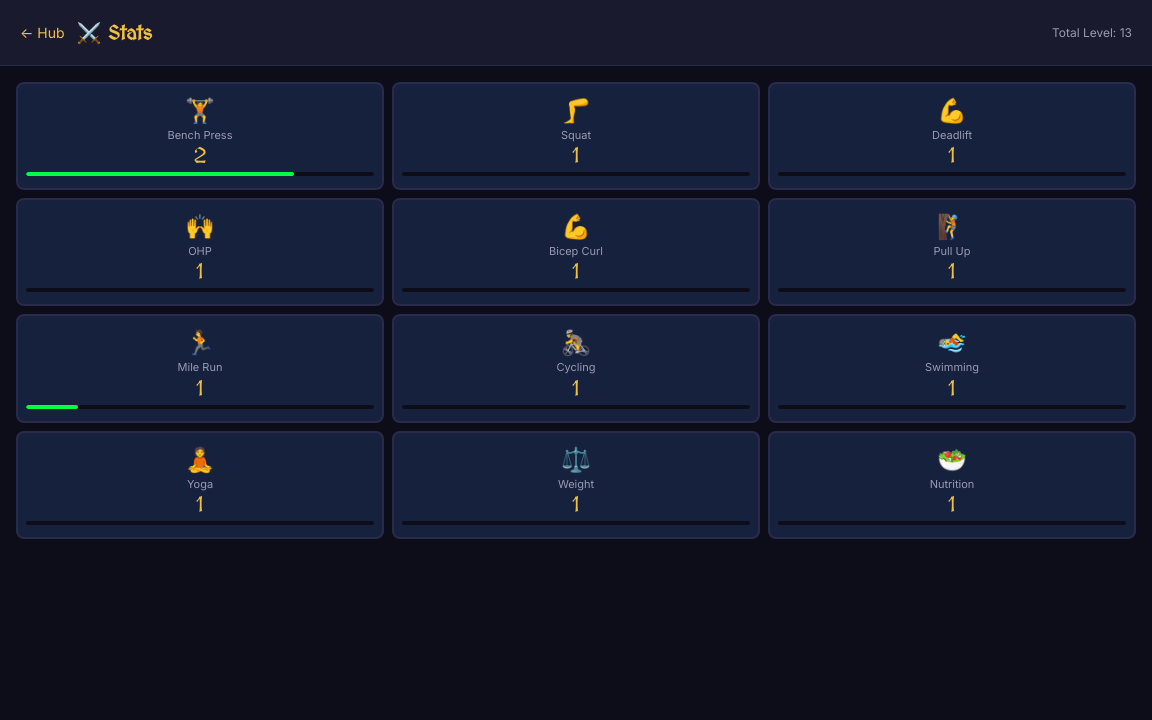
it: StatsScreen › opens a dialog with the stat details when a cell is clicked
Click the button with aria-label "Bench Press, level 2": (200, 136) [16,82,384,190]
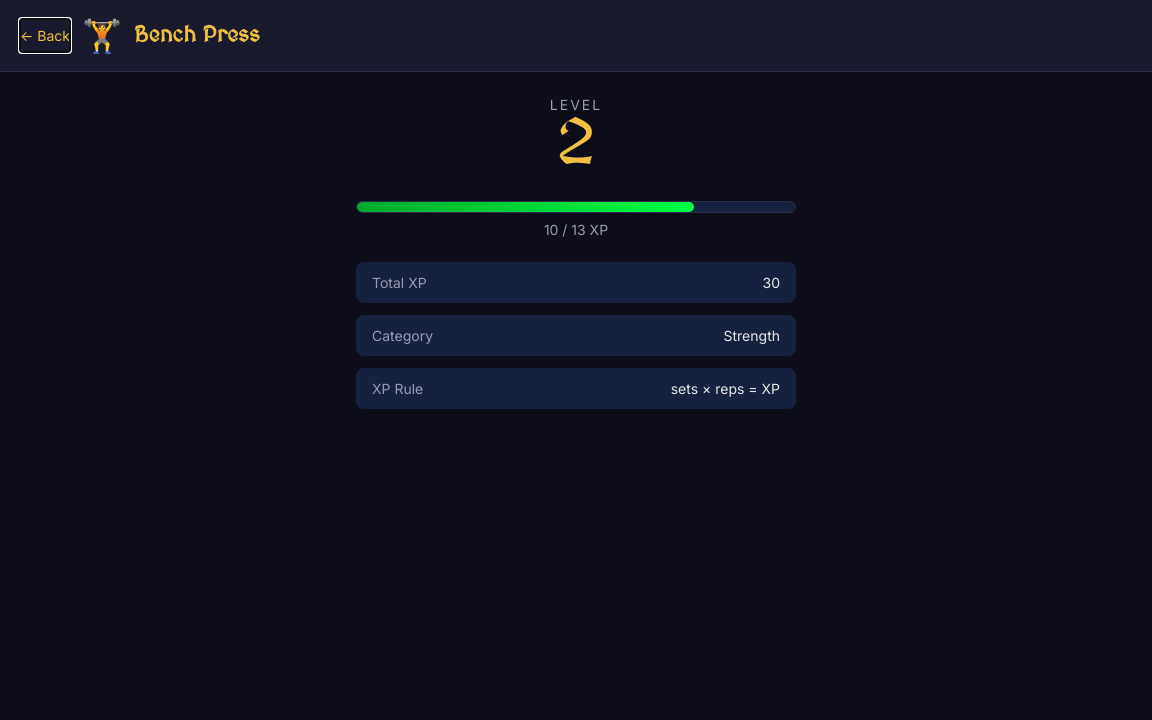
Result: the text "2" is shown at [556,113,596,177]
Result: the text "10 / 13 XP" is shown at [544,221,608,238]
Result: the text "30" is shown at [762,274,780,291]
